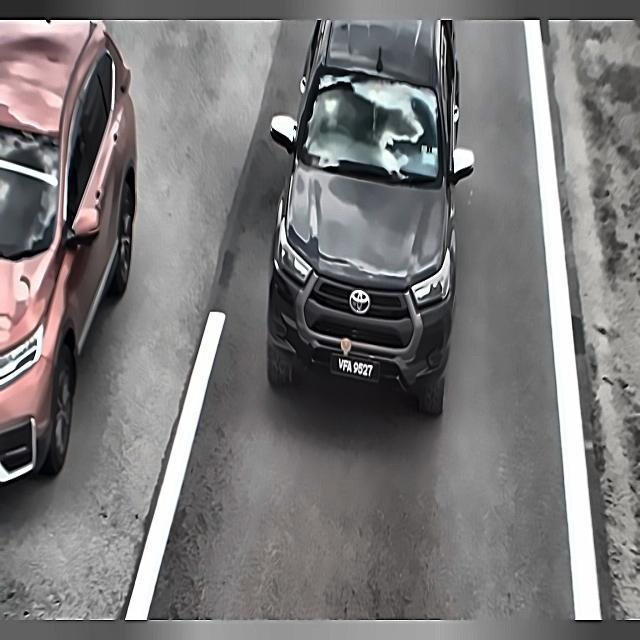car: (323, 347, 383, 388)
